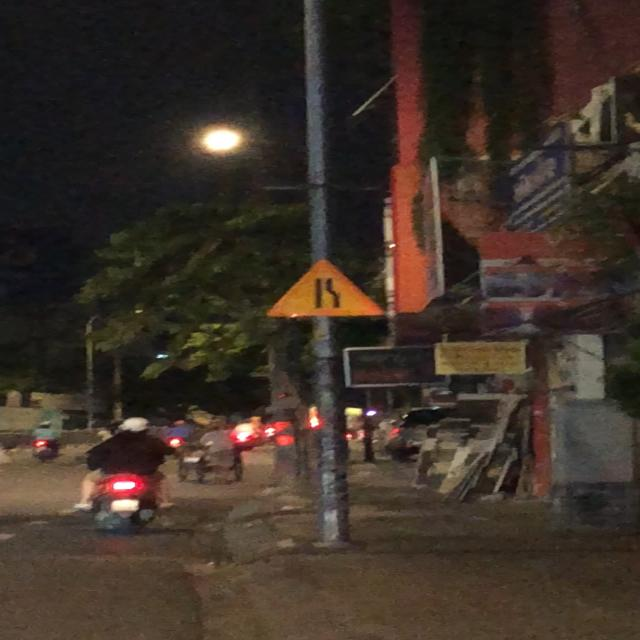Bien bao duong bi thu hep: (262, 259, 390, 318)
